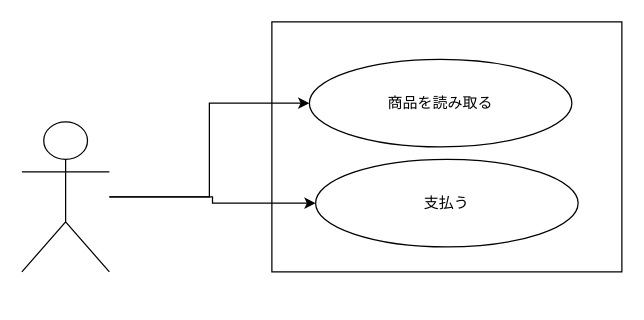
Some shapes in this 644 by 320 pixel diagram are drawn without their labels. Here are the shapes that lost their labels. From the top down, the box of each, then its label:
(271, 21, 622, 272): セルフレジ
(21, 121, 109, 272): お客さん
